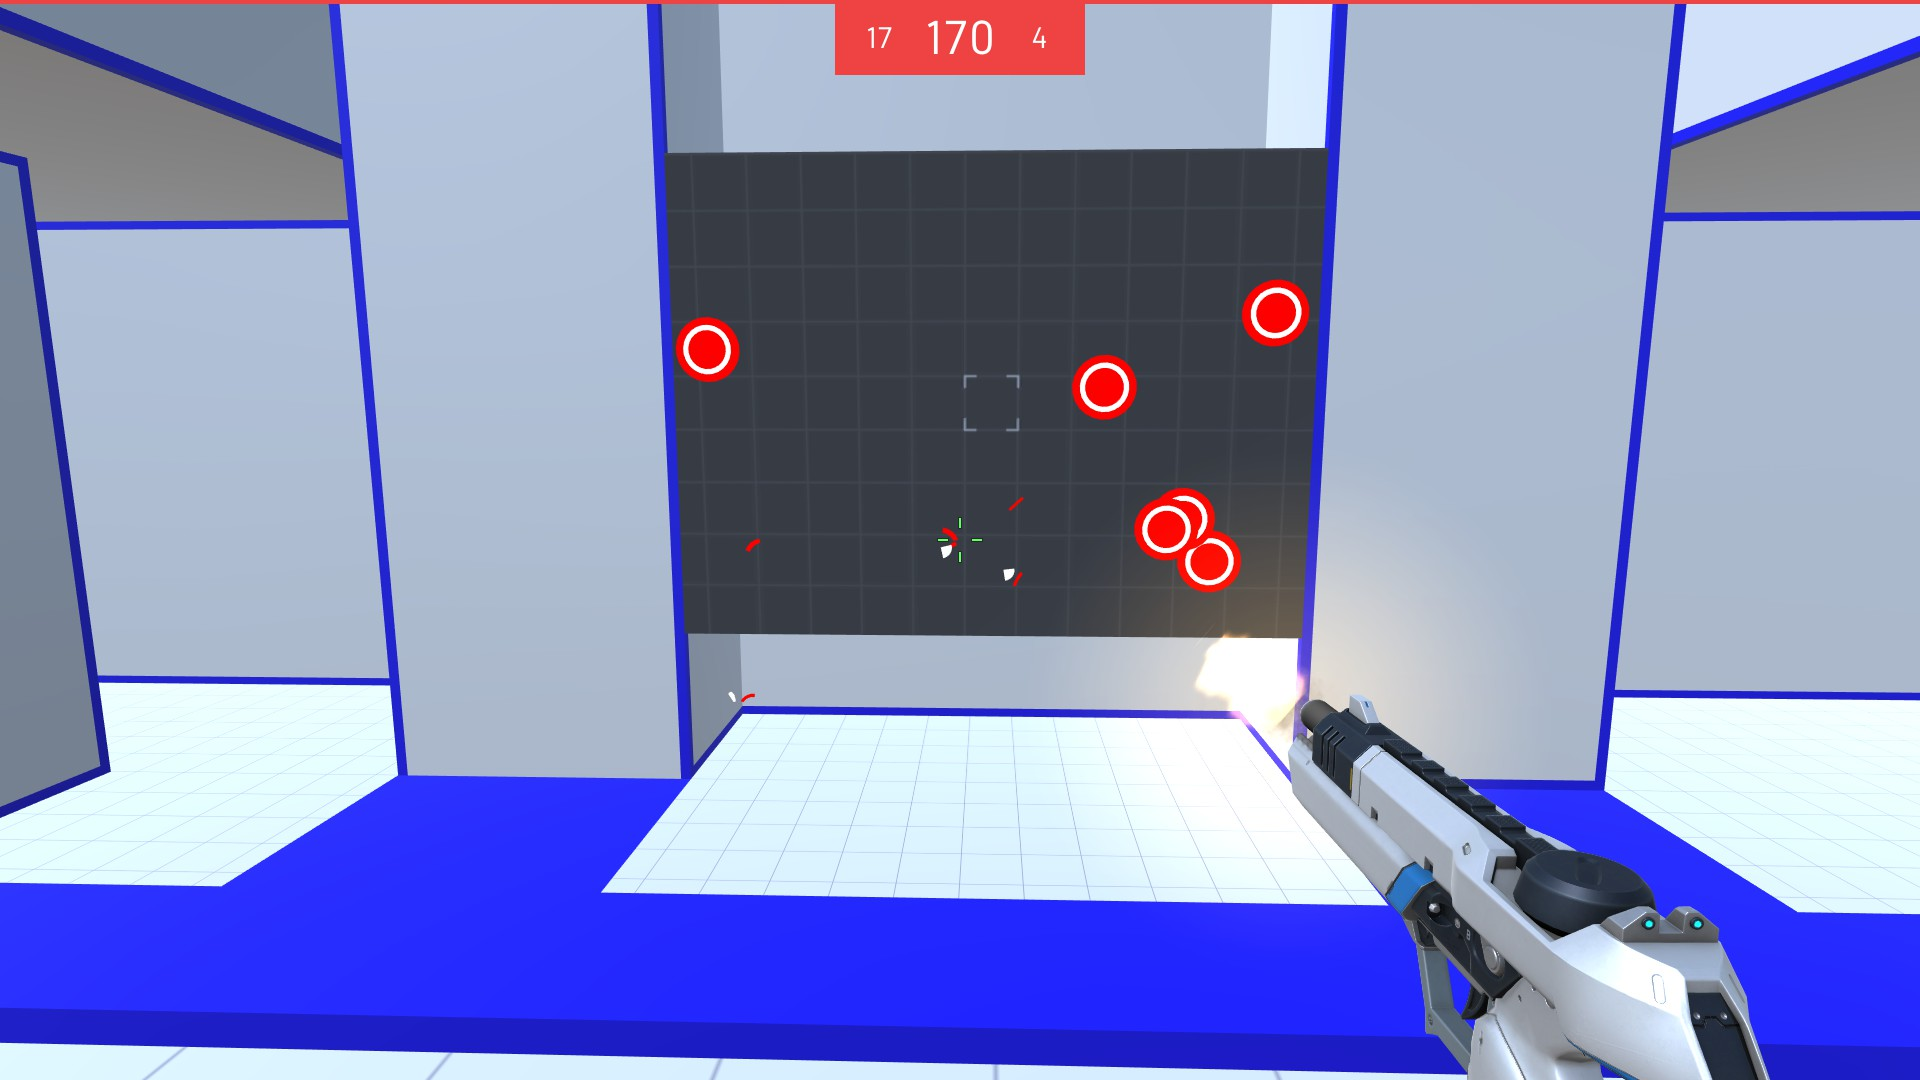target: (1240, 273, 1313, 353), (1067, 347, 1139, 426), (674, 318, 744, 384), (1155, 483, 1222, 549), (1182, 531, 1240, 599), (1137, 498, 1193, 564)
